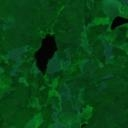alloviz: (33, 32, 59, 75), (109, 15, 128, 31)
